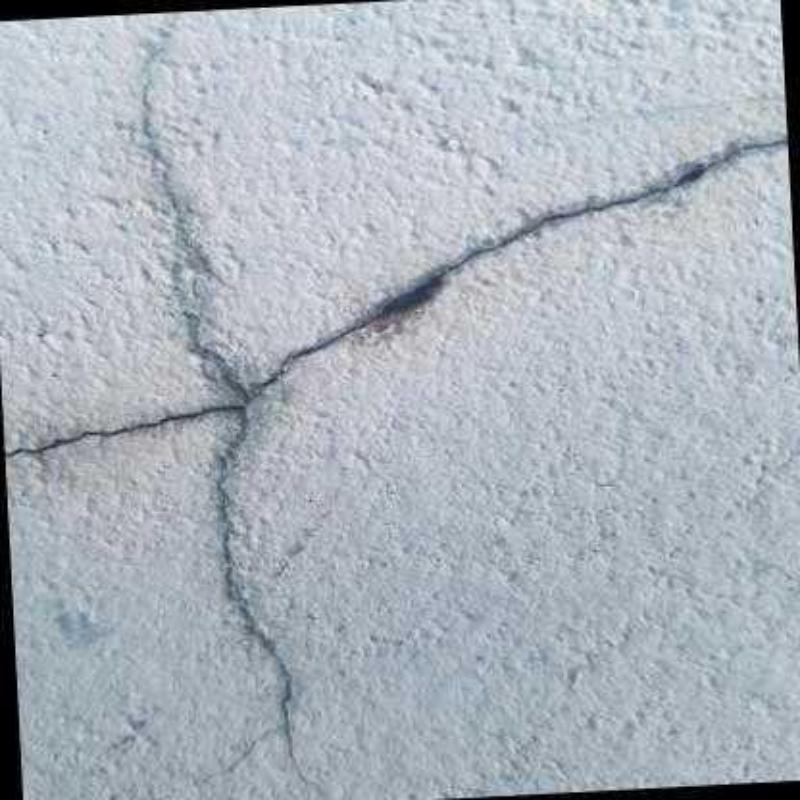pothole: (2, 136, 787, 602), (204, 588, 323, 798)
